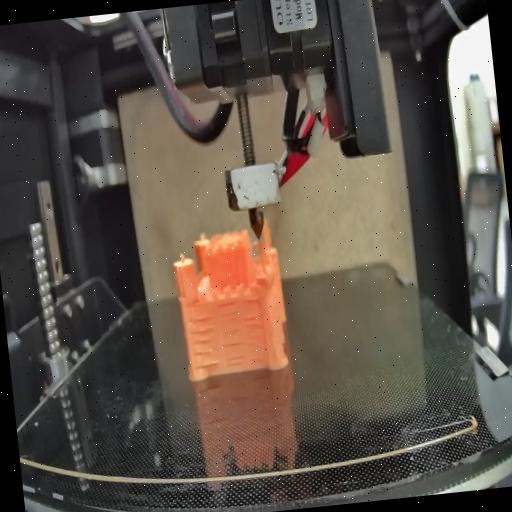cracks: (190, 313, 222, 370), (244, 312, 266, 364), (220, 303, 243, 334), (224, 339, 246, 370), (242, 295, 260, 307), (188, 296, 204, 306)
